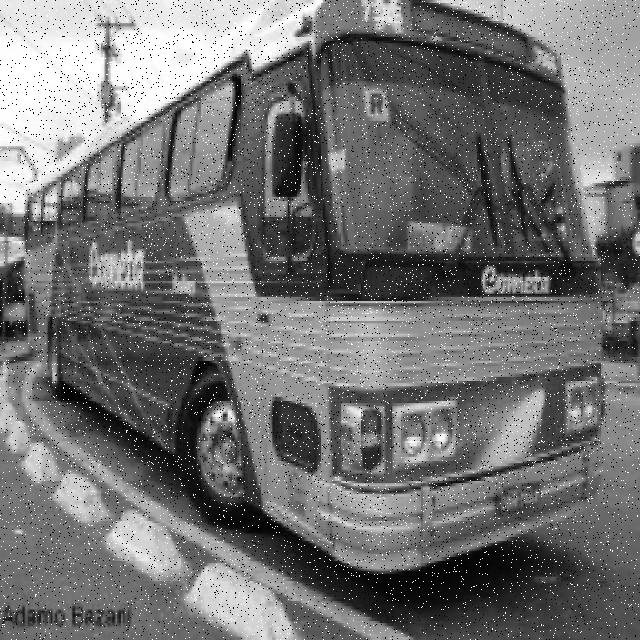Bus: (24, 0, 608, 577)
